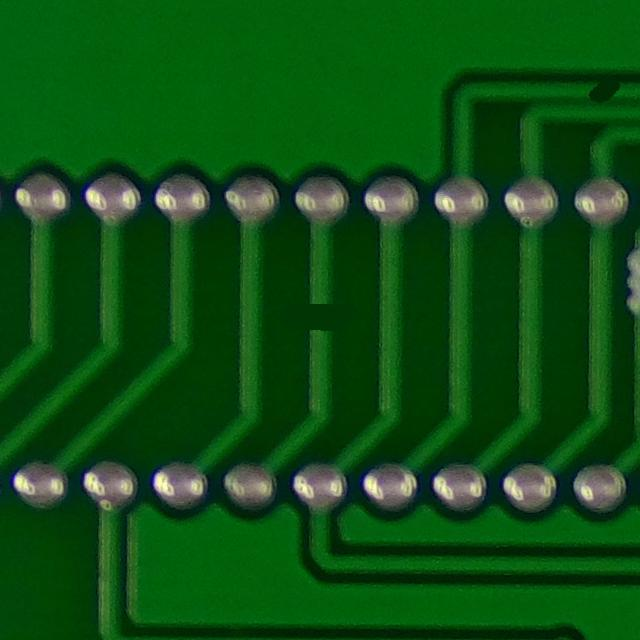open_circuit: (299, 299, 342, 342)
